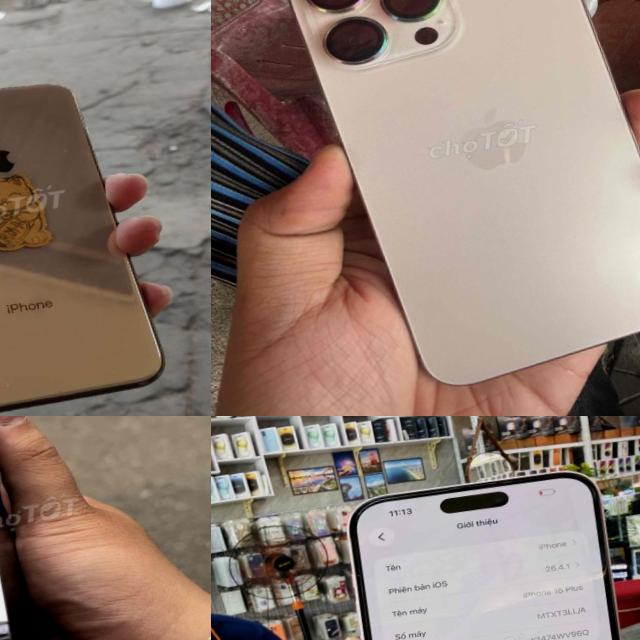gen_14: (0, 416, 58, 640)
gen_15: (314, 440, 640, 640)
gen_16: (291, 0, 640, 384)
gen_x_xs: (0, 54, 173, 416)
